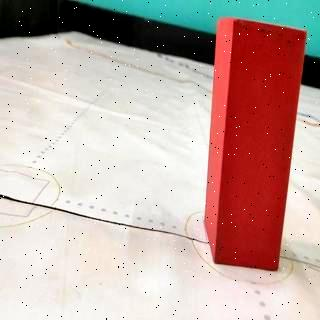redbox: (217, 21, 283, 269)
